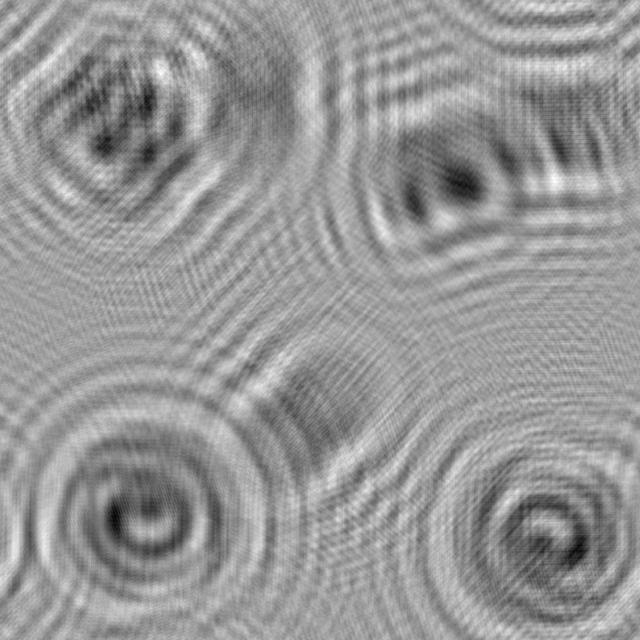F: (301, 56, 544, 317)
G: (0, 373, 293, 640), (410, 400, 640, 640)
H: (0, 0, 241, 265)
I: (166, 296, 430, 563), (157, 0, 360, 227), (442, 0, 640, 221)
